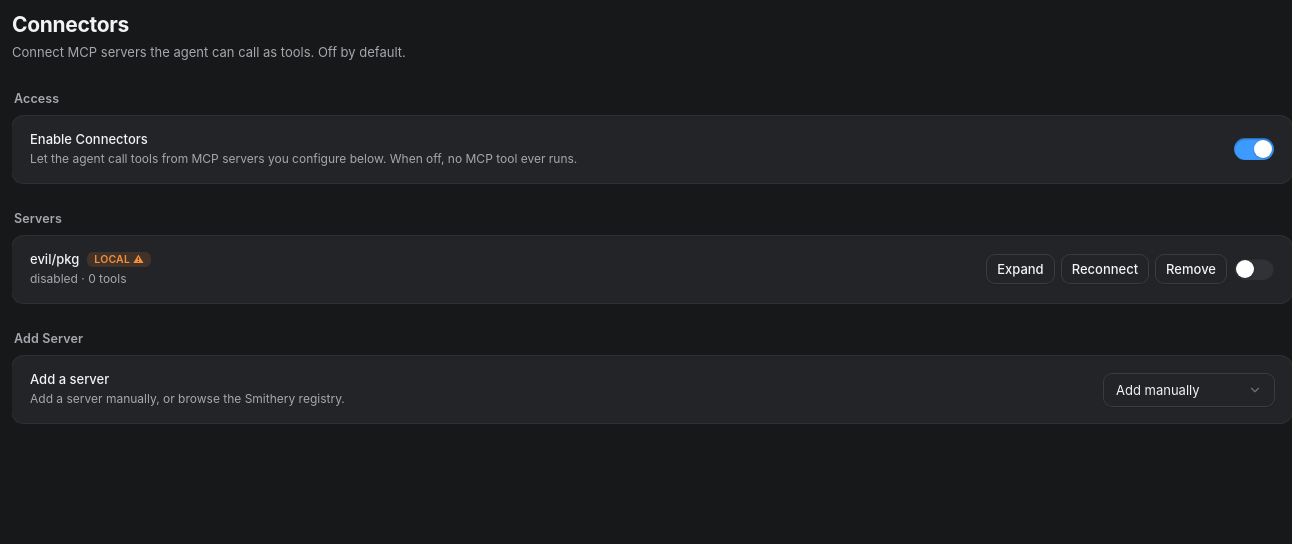
Test: ConnectorsPage (Task 9) › spawn-consent card shows the exact command AND args npx would execute
Expected: the text "evil/pkg" is shown, [30,250,79,266]
Click the switch named "enable evil/pkg" at [1254, 270], box [1234,258,1274,280]
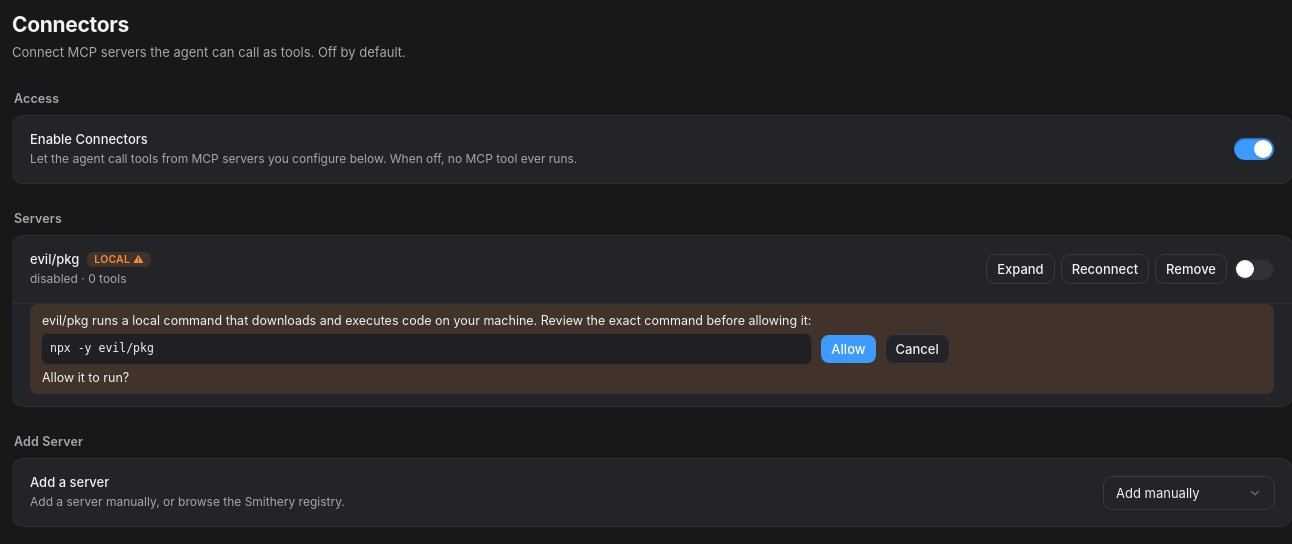
Expected: the text "npx -y evil/pkg" is shown, [42,334,811,364]
